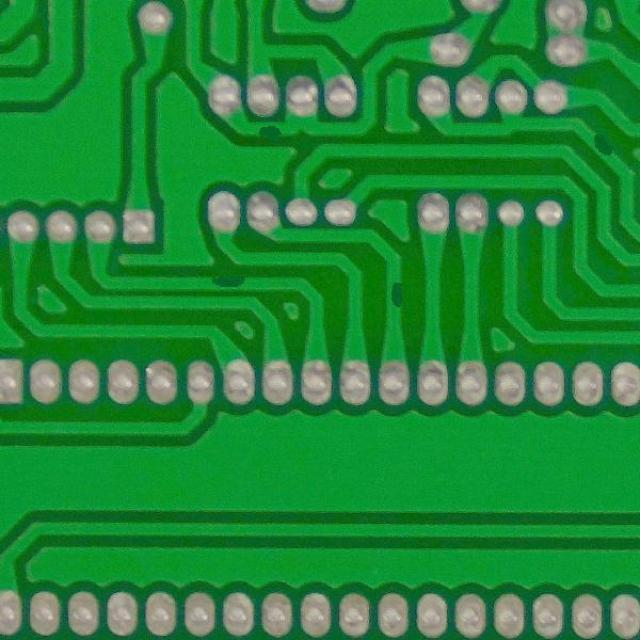MouseBite: (581, 127, 621, 163), (201, 271, 256, 294), (382, 273, 407, 315), (249, 117, 288, 141)
